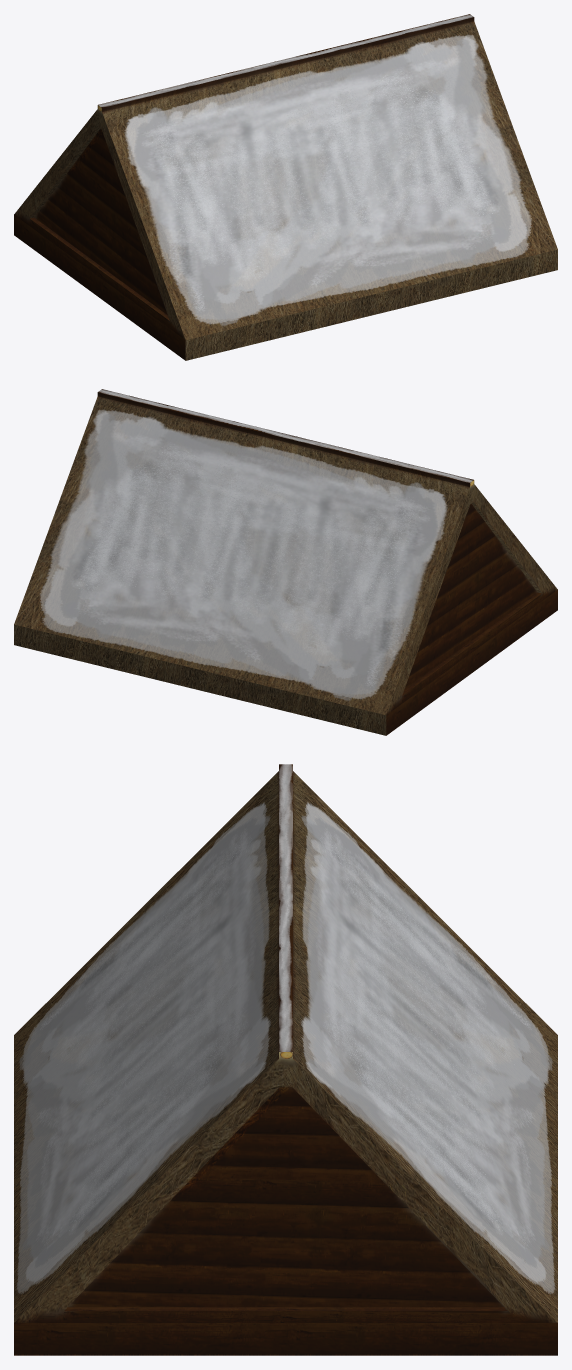
Rendered from Roof 2.fbx.
3 views of the same model, one above another, from view 1: azimuth 30°, elevation 25°; view 2: azimuth 150°, elevation 25°; view 3: azimuth 270°, elevation 25° (orthographic). The views are drawn at different scales.
Visible parts, largest first — view 1: Roof_2; view 2: Roof_2; view 3: Roof_2.
Part boxes in pixels (<box>): Roof_2: <box>14,14,557,360</box>; Roof_2: <box>14,389,557,735</box>; Roof_2: <box>14,764,557,1355</box>.
Size of the model in its own units: 7.38 by 3.63 by 5.9.
